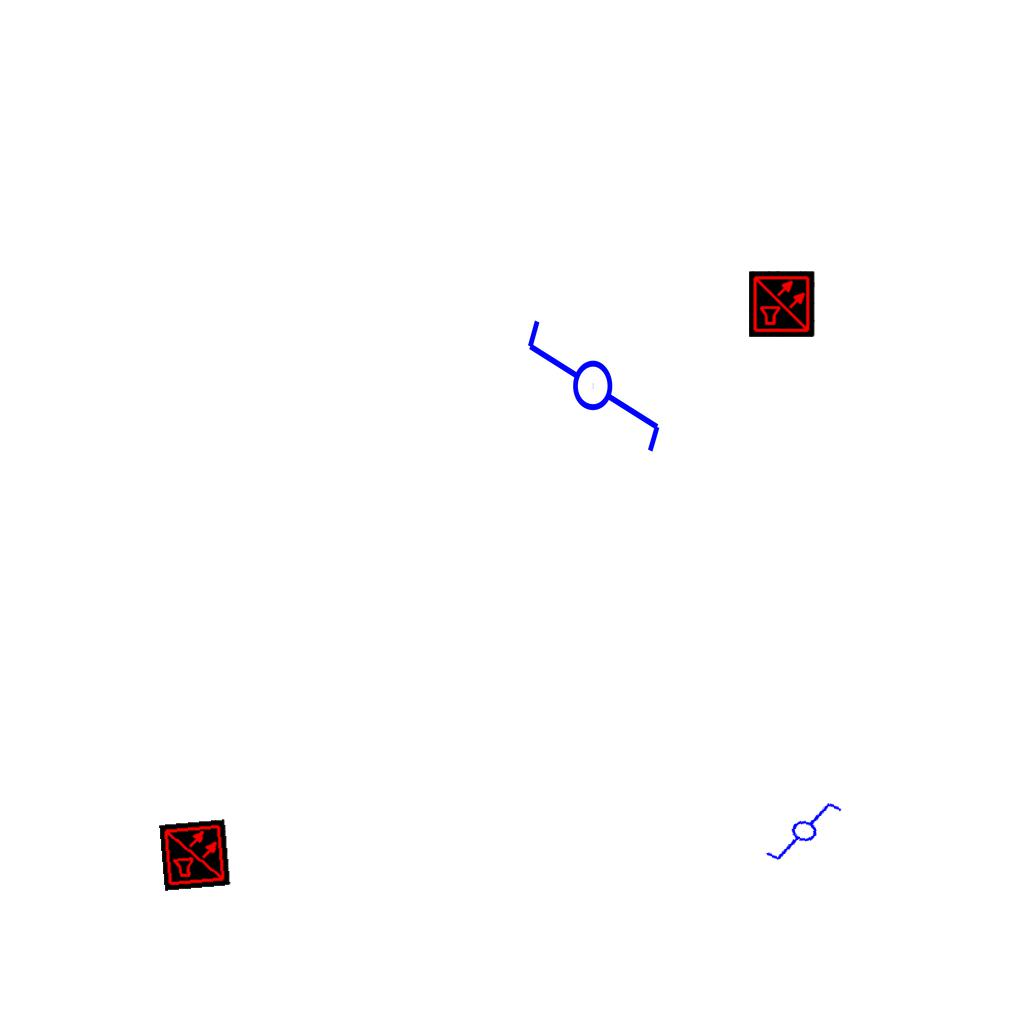OKW_Multisensormelder_(Kombination_optischer_Rauch-Kahlenmonoxid_Waerme-Melder): (159, 819, 231, 891), (749, 271, 815, 337)
Wechselschalter: (523, 299, 667, 456), (762, 790, 854, 876)
